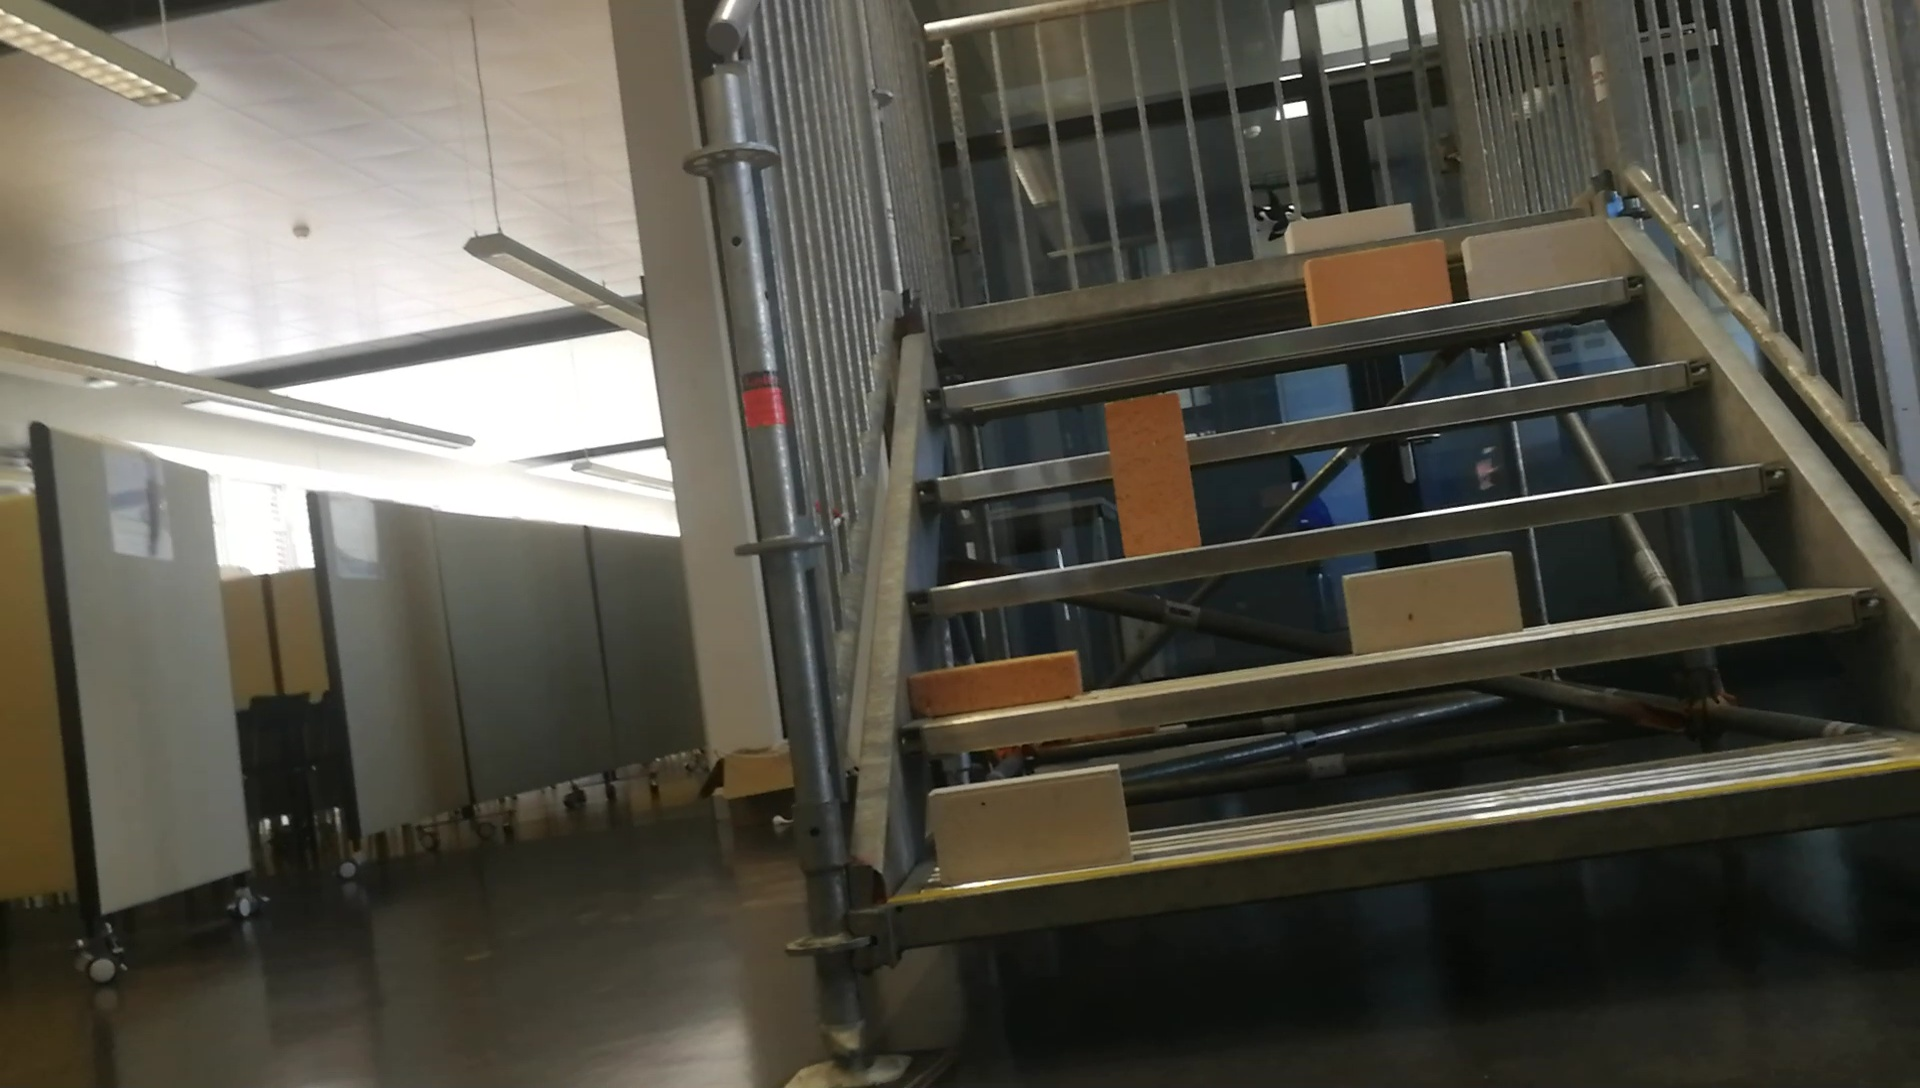brick: (924, 761, 1135, 882), (1342, 553, 1518, 650), (1108, 390, 1203, 555), (1305, 239, 1448, 328), (909, 653, 1080, 717), (1465, 223, 1611, 293), (1286, 200, 1412, 249)
edge: (893, 762, 1915, 946), (901, 586, 1886, 750), (907, 462, 1788, 619), (916, 357, 1710, 502), (920, 270, 1644, 411)
stairs: (687, 3, 1920, 1088)
steps: (862, 195, 1920, 976)
